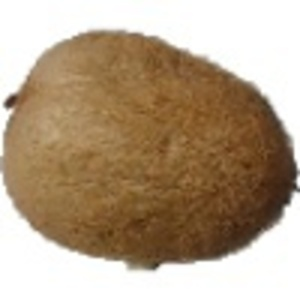kiwi: (1, 28, 300, 274)
